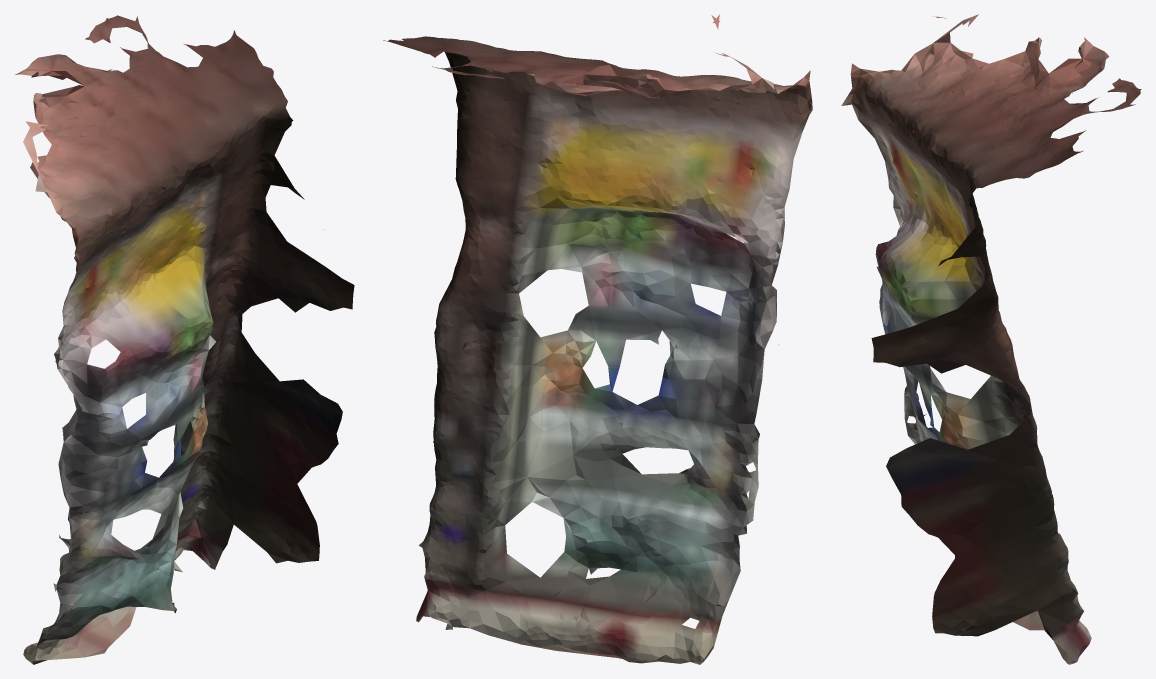
The model's file is texturedMesh.obj.
The picture shows the model from 3 angles, left to right: view 1: azimuth 30°, elevation 25°; view 2: azimuth 150°, elevation 25°; view 3: azimuth 270°, elevation 25°; orthographic projection. The views are drawn at different scales.
Parts seen in each view (by area): view 1: TexturedMesh; view 2: TexturedMesh; view 3: TexturedMesh.
Boxes of the visible parts, <box> form: TexturedMesh: <box>15,15,354,664</box>; TexturedMesh: <box>383,14,812,664</box>; TexturedMesh: <box>841,14,1141,664</box>.
Bounding box in the file's own units: 3.13 × 5.88 × 2.8.
Materials: 1 (1 with a texture image).
